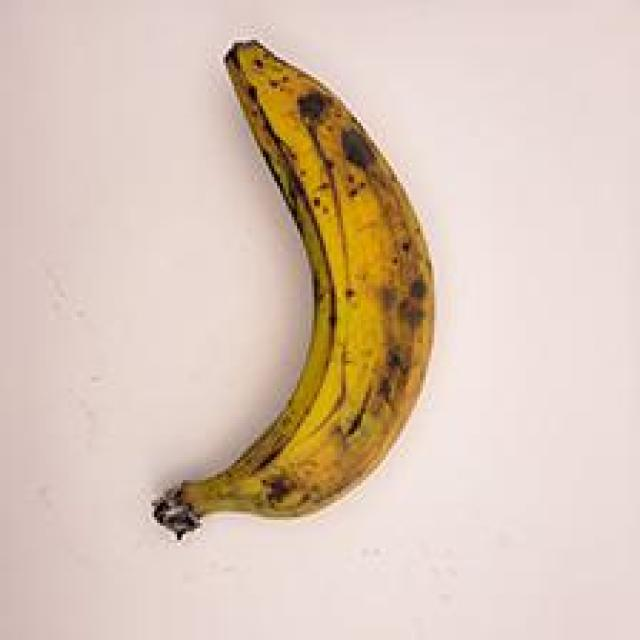Overripe: (84, 2, 468, 580)
